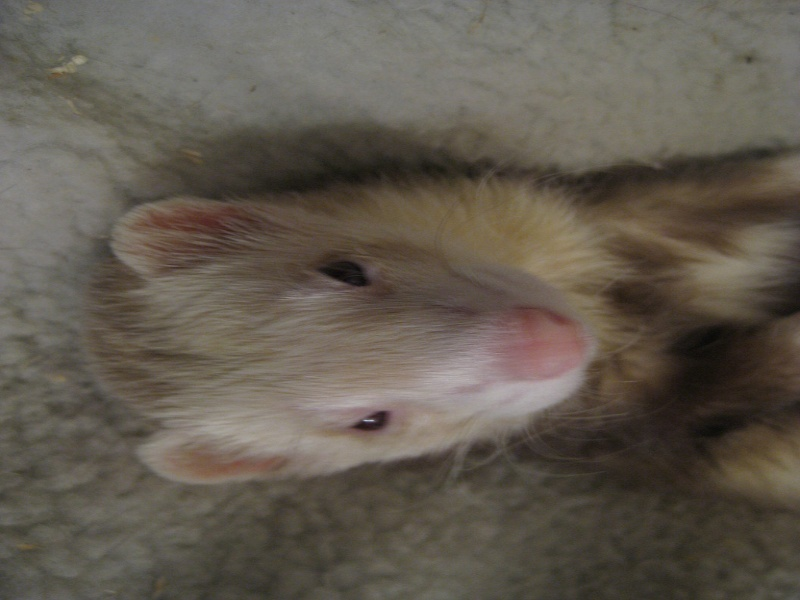minkish: (94, 142, 800, 511)
